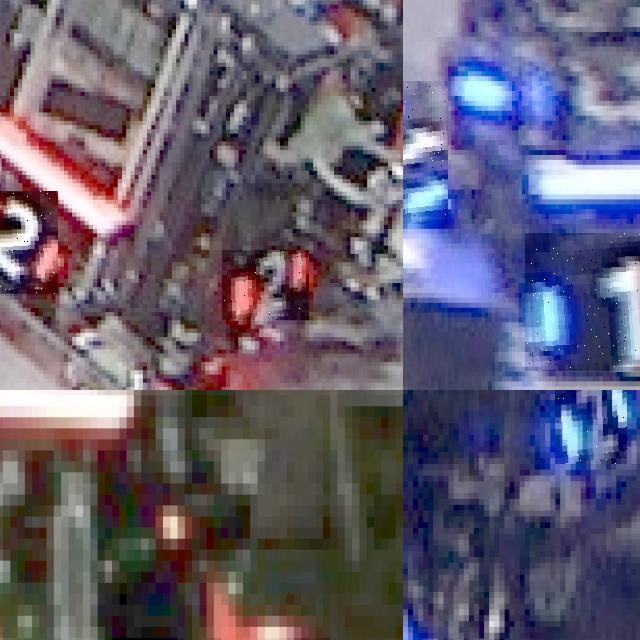B1: (525, 233, 640, 371), (403, 81, 447, 228)
B2: (555, 390, 626, 464)
R2: (222, 250, 309, 320), (0, 191, 57, 295)
